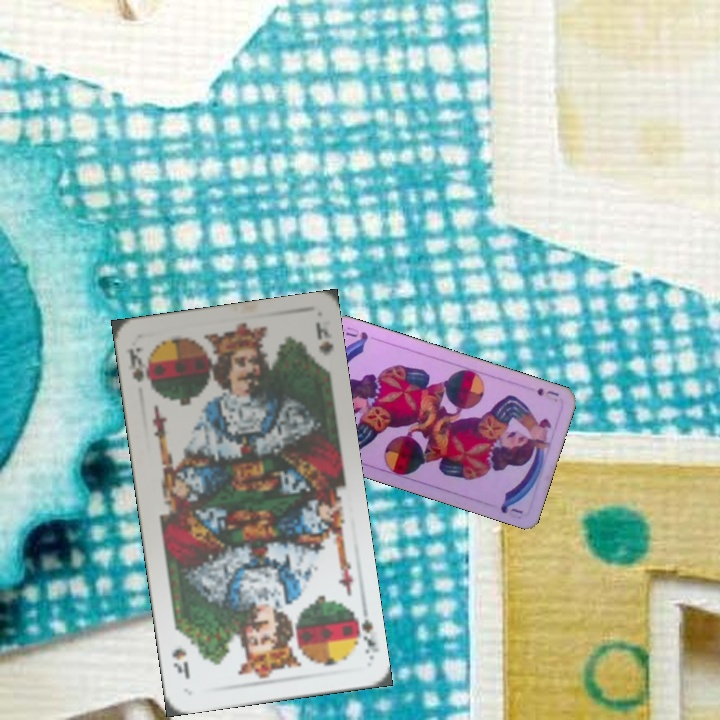SK: (346, 602, 379, 662), (122, 343, 155, 392)
SU: (533, 384, 562, 399)
